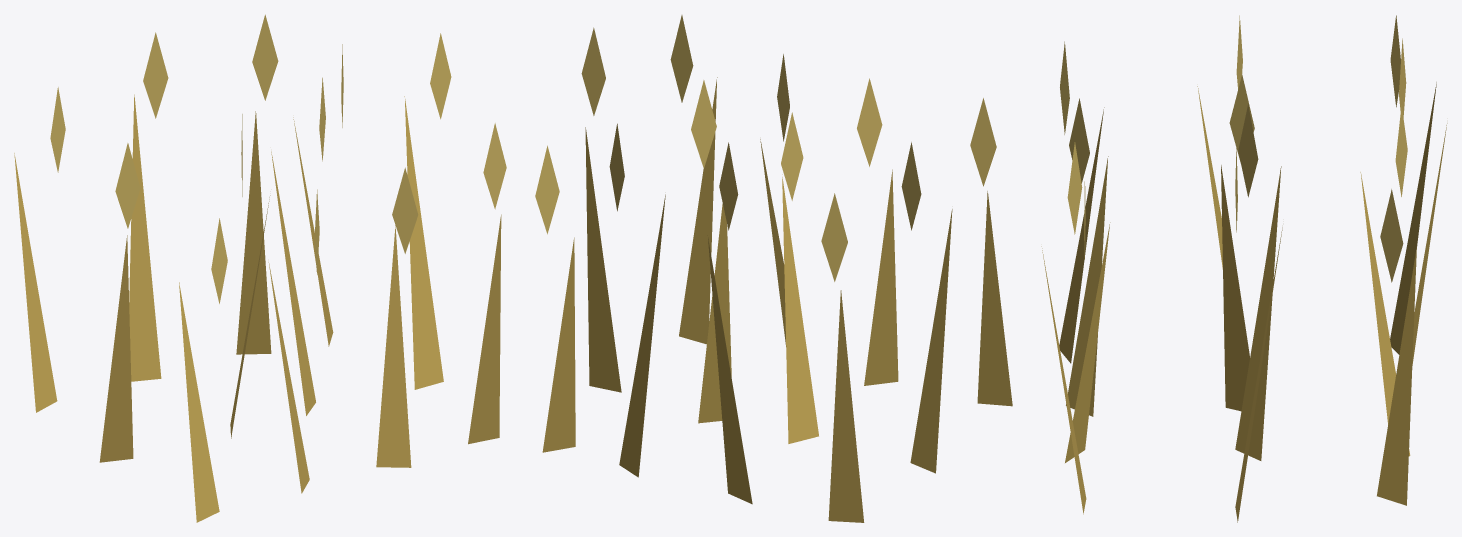
The model's file is ble.glb.
The picture shows the model from 3 angles, left to right: view 1: azimuth 30°, elevation 25°; view 2: azimuth 150°, elevation 25°; view 3: azimuth 270°, elevation 25°; orthographic projection. The views are drawn at different scales.
Parts seen in each view (by area): view 1: ble; view 2: ble; view 3: ble.
Part boxes in pixels (<box>): ble: <box>14,14,506,522</box>; ble: <box>535,15,1012,522</box>; ble: <box>1041,15,1447,522</box>.
Size of the model in its own units: 0.9191 by 0.8828 by 0.8588.
Materials: 1 (1 with a texture image).
